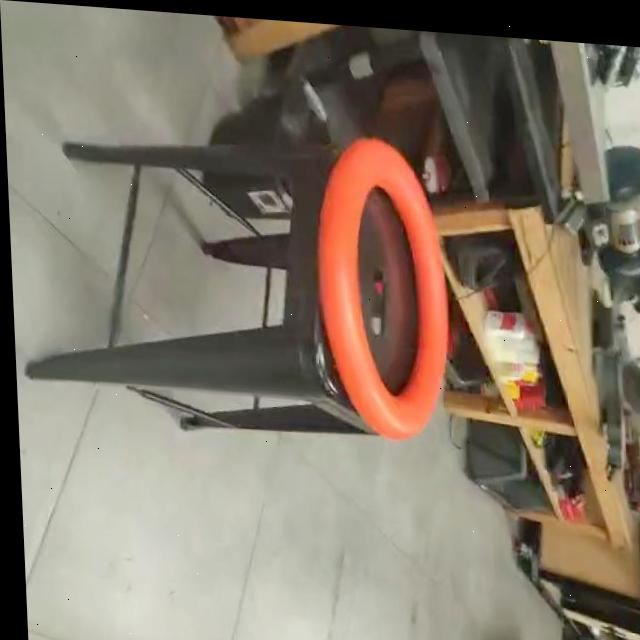note: (308, 128, 455, 444)
